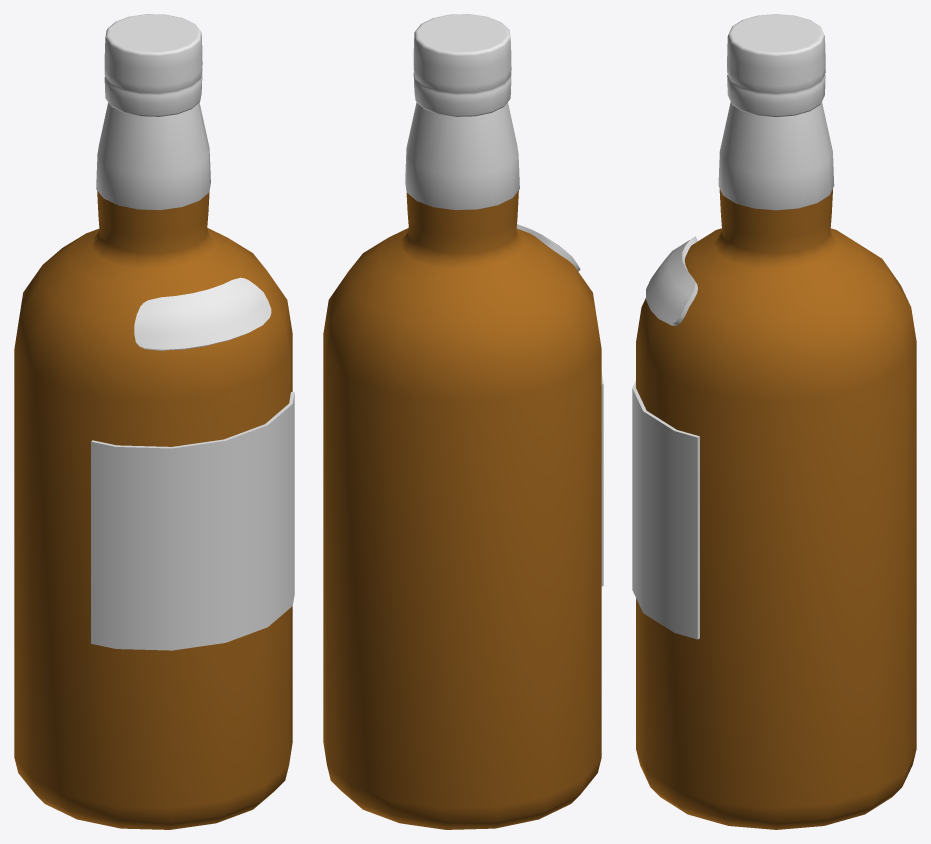
File: MESH_Bottle_F.fbx
The picture shows the model from 3 angles, left to right: view 1: azimuth 30°, elevation 25°; view 2: azimuth 150°, elevation 25°; view 3: azimuth 270°, elevation 25°; orthographic projection.
Parts seen in each view (by area): view 1: Bottle_F; view 2: Bottle_F; view 3: Bottle_F.
Part boxes in pixels (x1,y1,x2,y2): Bottle_F: (14, 14, 294, 829); Bottle_F: (323, 14, 603, 829); Bottle_F: (632, 14, 916, 829).
Bounding box in the file's own units: 18.29 × 53.75 × 18.53.
